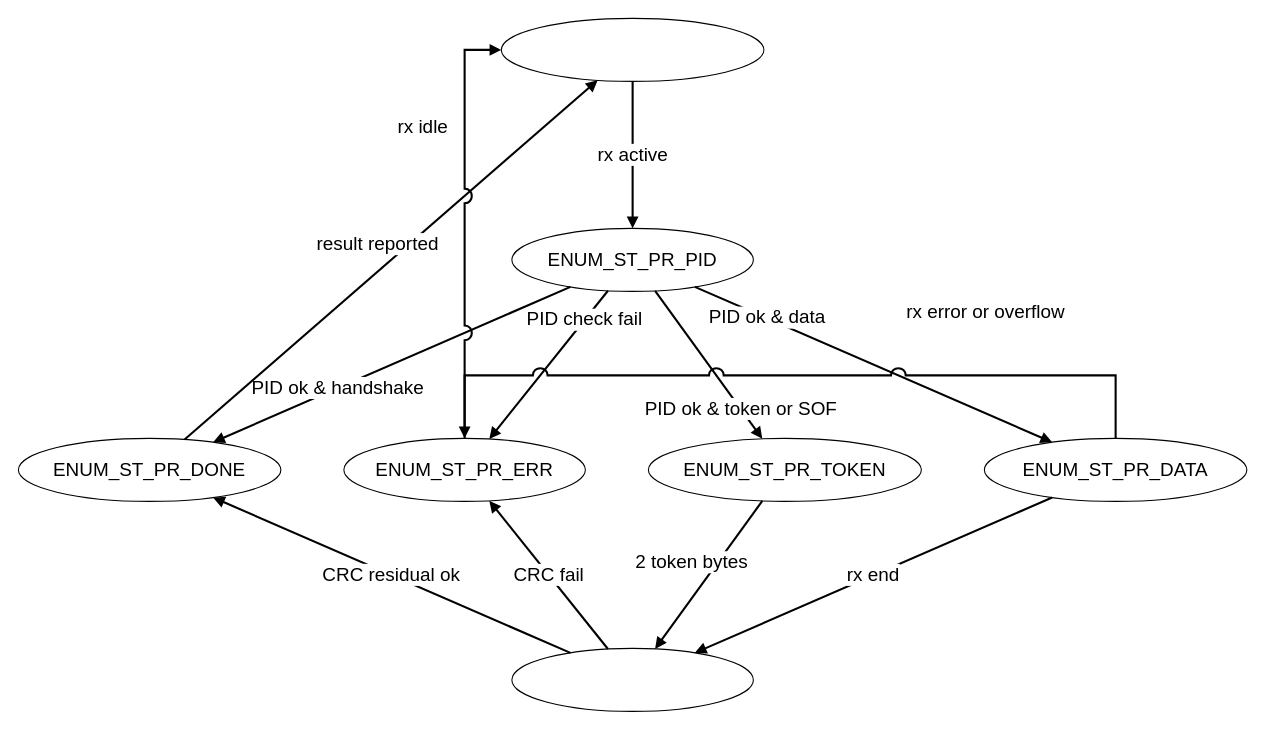
Some shapes in this 1265 by 730 pixel diagram are drawn without their labels. Each missing label, with the centre of its shape:
"ENUM_ST_PR_CRC" goes at pixel 632 679.
"ENUM_ST_PR_IDLE" goes at pixel 632 49.
